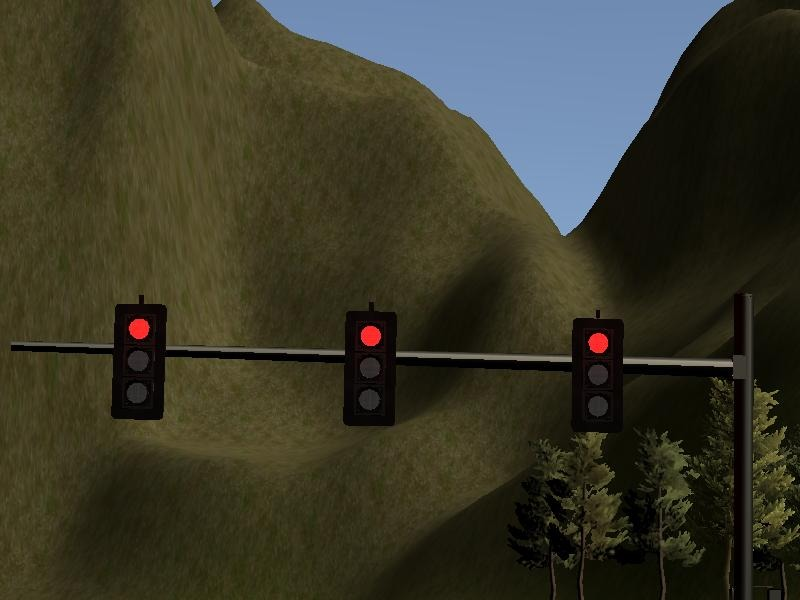red: (111, 303, 168, 420), (569, 317, 626, 434), (342, 311, 399, 428)
